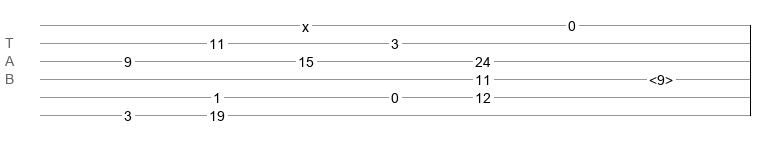0: (391, 90, 399, 100), (568, 18, 576, 28)
1: (213, 90, 221, 100)
11: (209, 36, 225, 46), (475, 72, 491, 82)
12: (475, 90, 491, 100)
15: (298, 54, 314, 64)
19: (209, 108, 225, 118)
24: (475, 54, 491, 64)
3: (124, 108, 132, 118), (391, 36, 399, 46)
9: (124, 54, 132, 64)
harmonic: (649, 72, 673, 82)
x: (302, 19, 309, 27)
